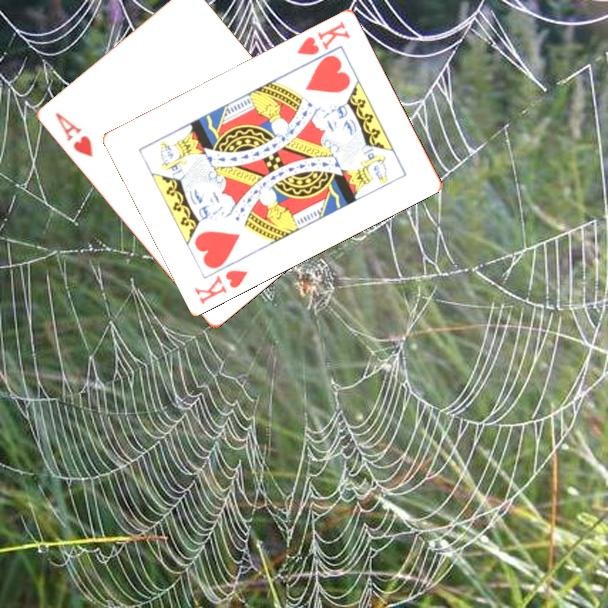h01: (51, 109, 95, 160)
h13: (293, 17, 353, 58), (191, 266, 251, 307)
